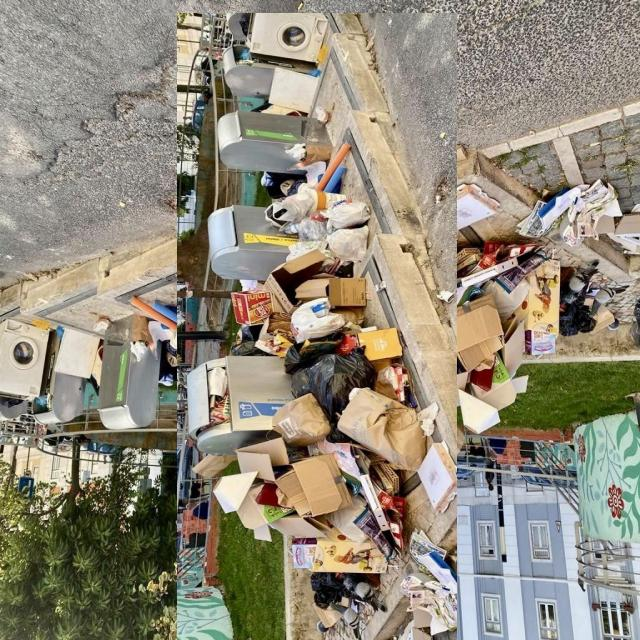garbage: (89, 101, 546, 560)
